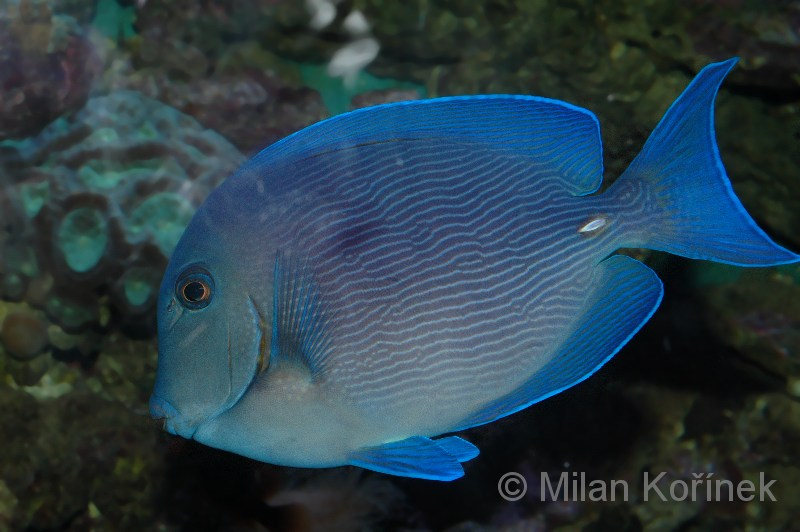Acanthurus_coeruleus: (130, 55, 800, 481)
